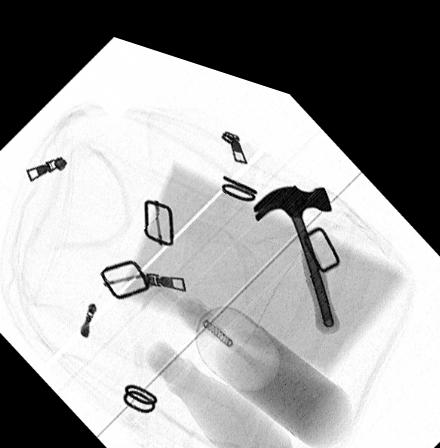Hammer: (251, 165, 338, 314)
